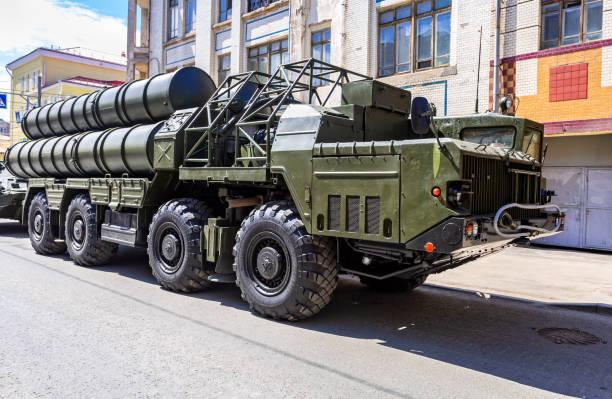MIL_SAM_TEL: (0, 60, 560, 318)
